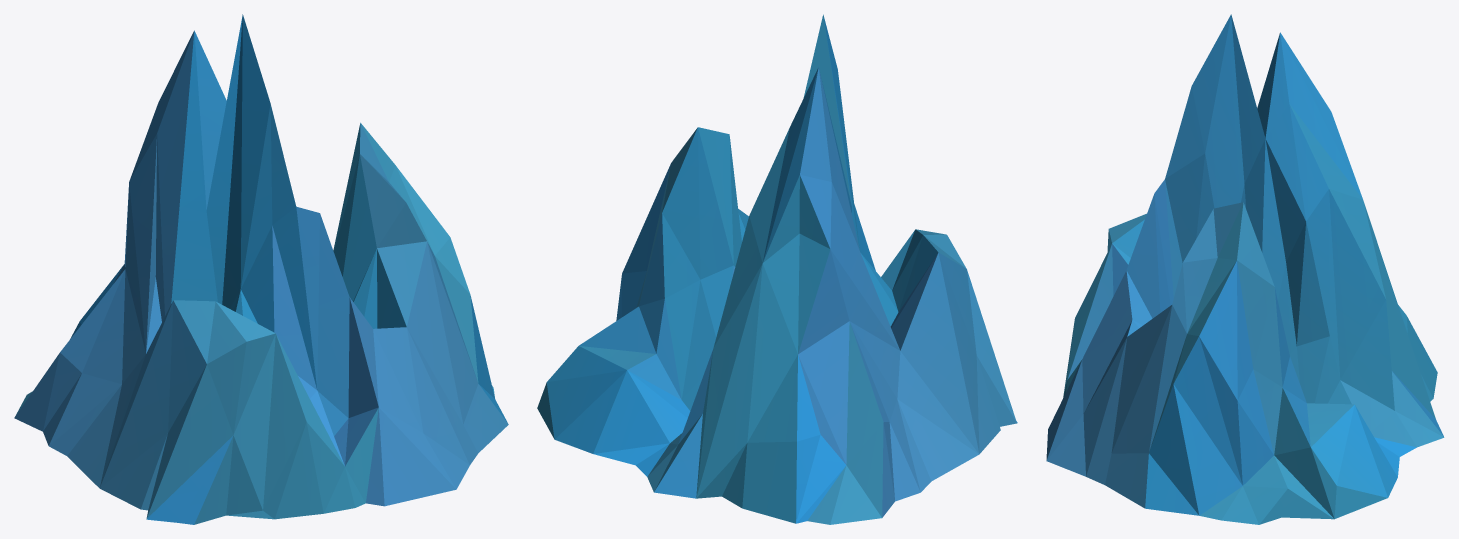
The model's file is blue_mountain_before.glb.
3 views of the same model, side by side, from view 1: azimuth 30°, elevation 25°; view 2: azimuth 150°, elevation 25°; view 3: azimuth 270°, elevation 25° (orthographic). The views are drawn at different scales.
Parts seen in each view (by area): view 1: SP_Mountain01; view 2: SP_Mountain01; view 3: SP_Mountain01.
Boxes of the visible parts, <box> form: SP_Mountain01: <box>14,14,508,524</box>; SP_Mountain01: <box>537,14,1017,524</box>; SP_Mountain01: <box>1046,14,1444,524</box>.
Size of the model in its own units: 5.18 by 5.2 by 4.74.
Materials: 1 (1 with a texture image).
